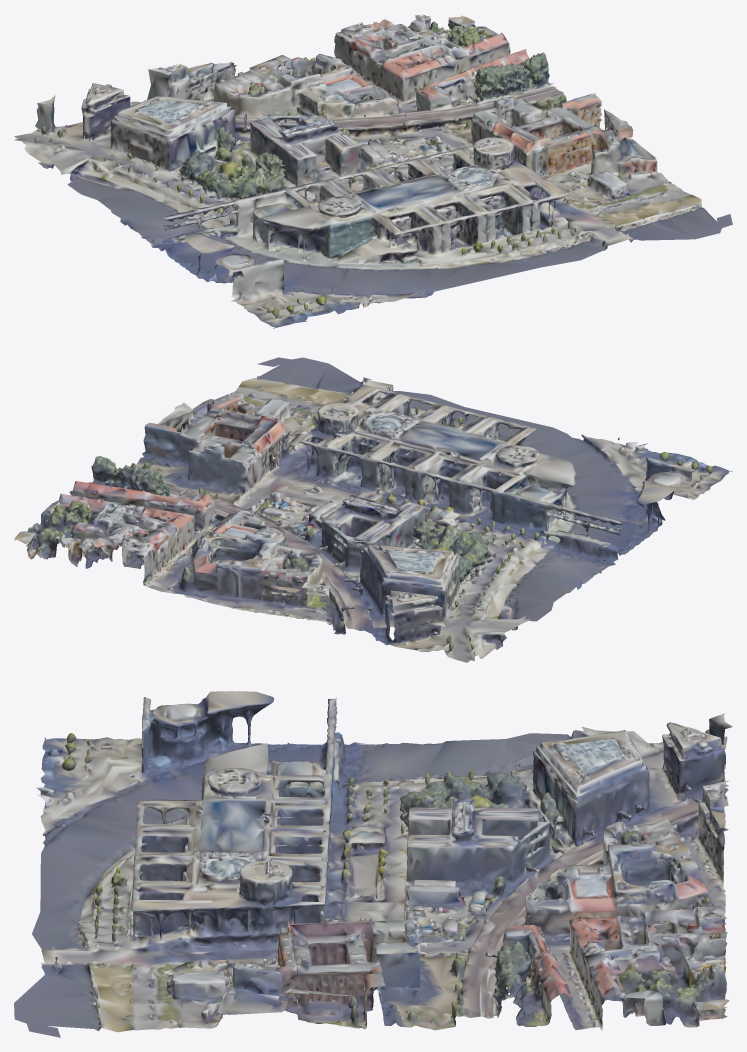
Rendered from tile-3898_58200.glb.
The picture shows the model from 3 angles, top to bottom: view 1: azimuth 30°, elevation 25°; view 2: azimuth 150°, elevation 25°; view 3: azimuth 270°, elevation 25°; orthographic projection. The views are drawn at different scales.
Visible parts, largest first — view 1: world; view 2: world; view 3: world.
Part boxes in pixels (left/top/right/bottom): world: left=14, top=14, right=732, bottom=328; world: left=14, top=357, right=732, bottom=662; world: left=14, top=691, right=732, bottom=1037.
Bounding box in the file's own units: 380 × 46.21 × 382.
